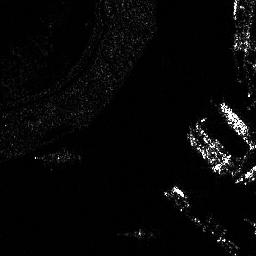ship: (184, 133, 226, 175), (194, 118, 231, 162), (219, 101, 248, 134), (232, 166, 256, 187)
